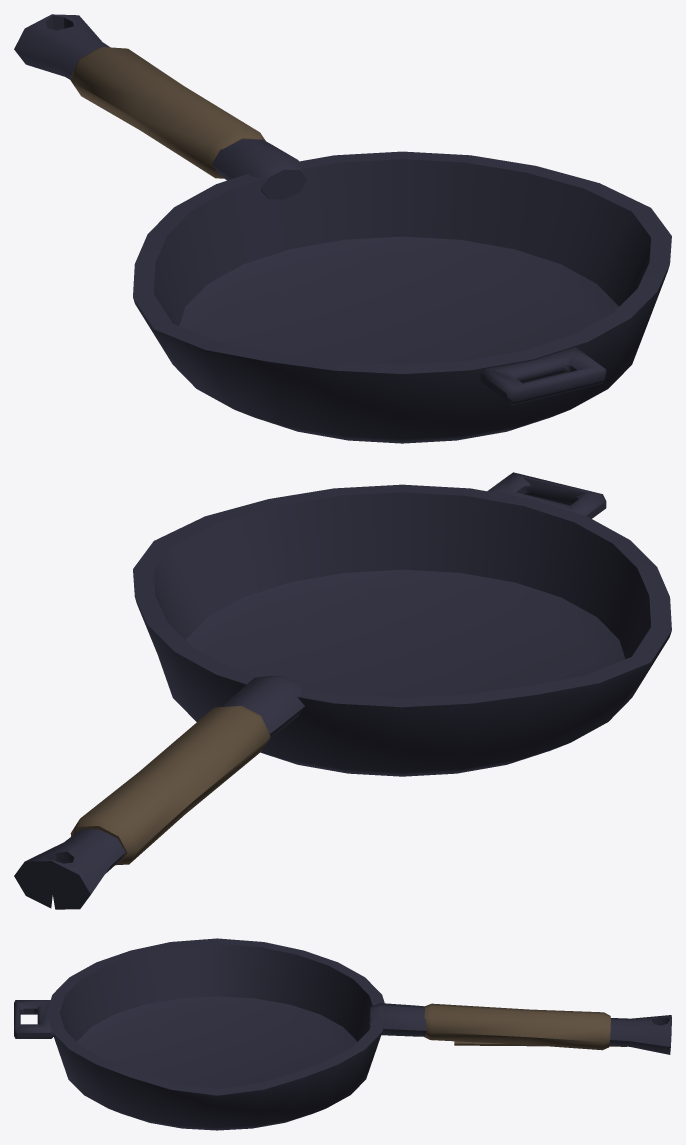
The model's file is Cosmetic_Spatula_Pan.fbx.
3 views of the same model, one above another, from view 1: azimuth 30°, elevation 25°; view 2: azimuth 150°, elevation 25°; view 3: azimuth 270°, elevation 25° (orthographic). The views are drawn at different scales.
Parts seen in each view (by area): view 1: Pan, Wrap; view 2: Pan, Wrap; view 3: Pan, Wrap.
Boxes of the visible parts, box(x1,y1,x2,y2) form: Pan: box(14, 14, 671, 443); Wrap: box(70, 47, 265, 178); Pan: box(14, 472, 671, 909); Wrap: box(70, 706, 270, 865); Pan: box(14, 938, 671, 1130); Wrap: box(424, 1003, 626, 1050).
Size of the model in its own units: 110 by 21.85 by 194.
